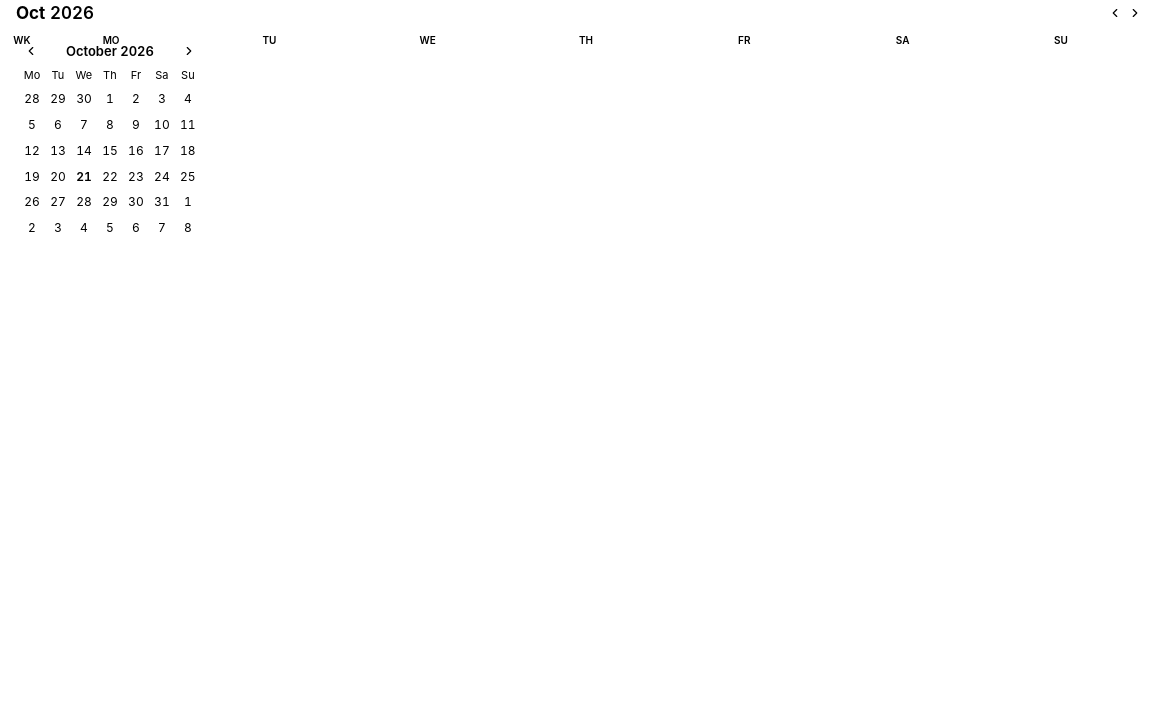
Test case: DatePickerPopover › picking a day › shows it in the Day view and closes
The image size is (1152, 720).
expect the button "Oct 2026" is shown: met, box [12,0,1104,26]
Click the cell named "2026-10-14" at point(84, 150), box [72,138,96,162]
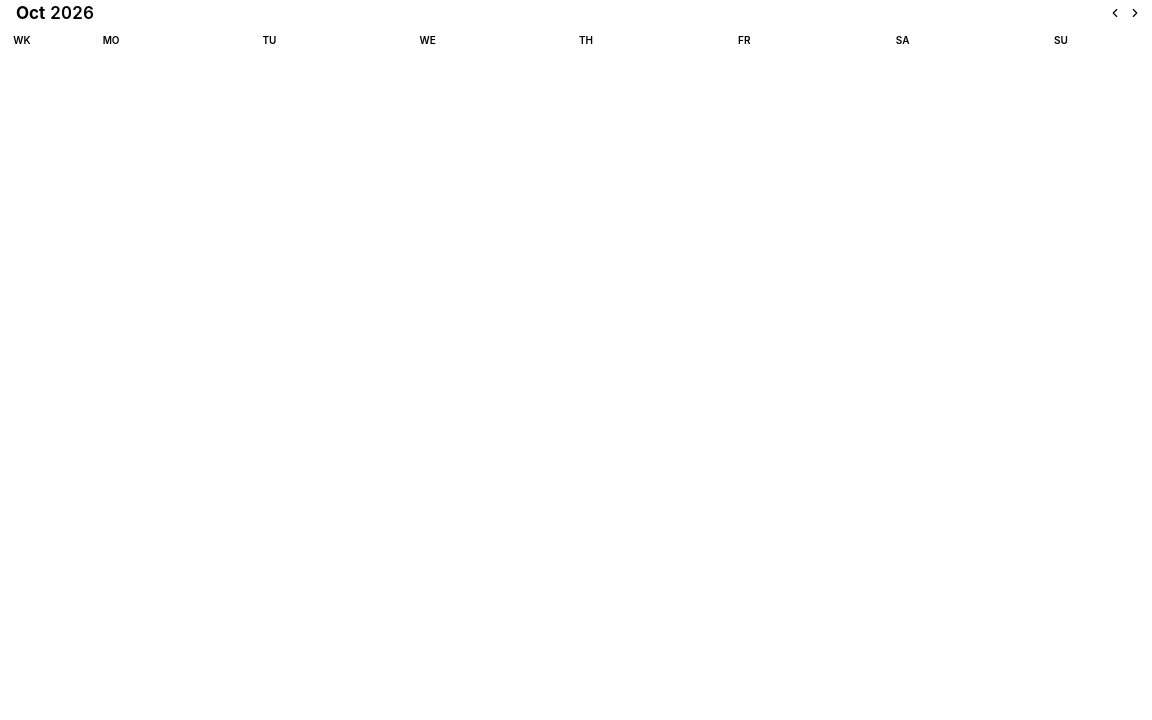
expect the dialog is gone: met
